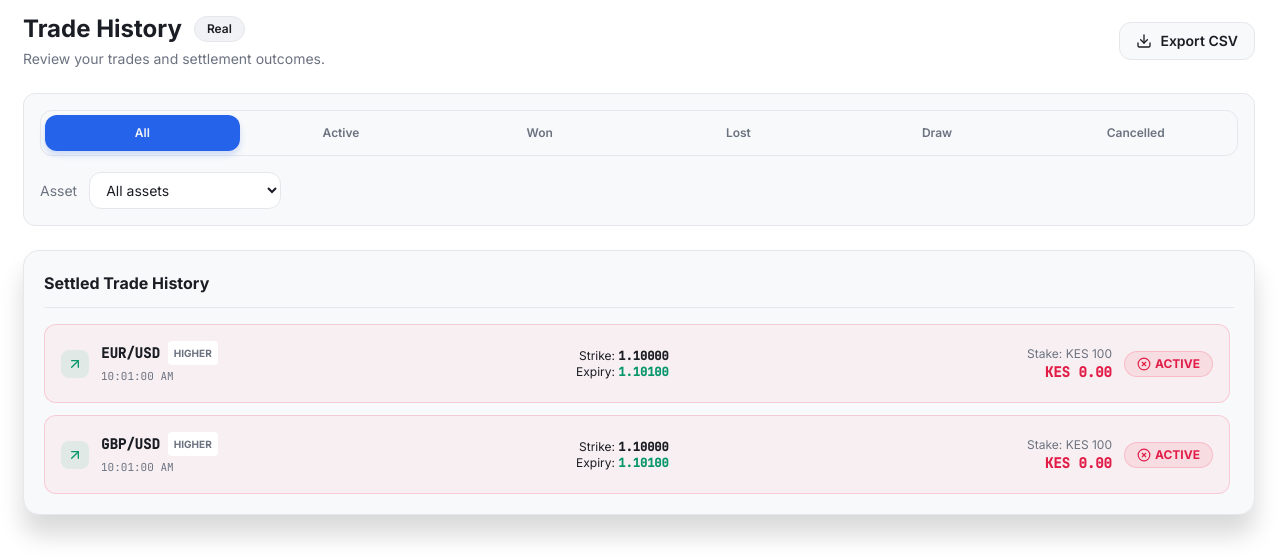
HistoryPage › filters by asset symbol
This screenshot has width=1279, height=559.
Select "GBP/USD" in the dropdown named "Filter by asset" at (185, 190), box [89,172,281,209]
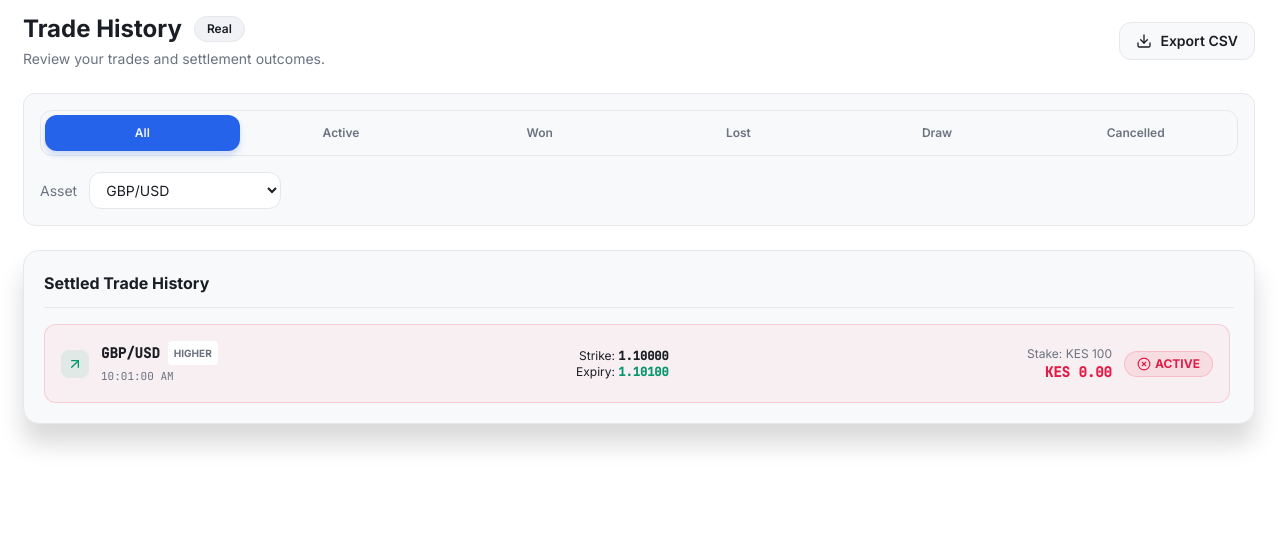
Expected: the text "GBP/USD" is shown, [101,343,160,363]
Expected: the text "EUR/USD" is gone
